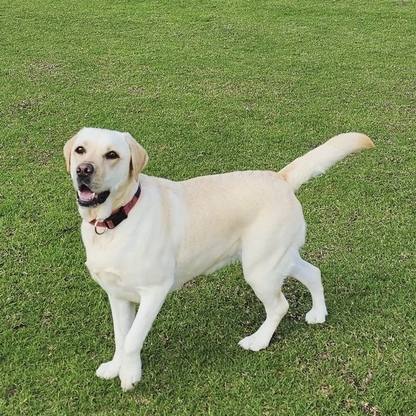labrado: (61, 124, 378, 397)
